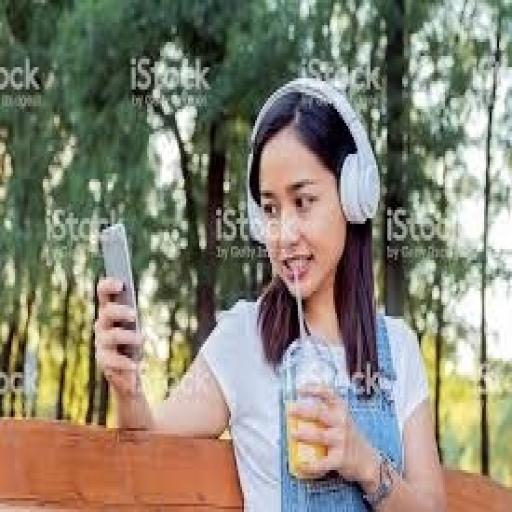listening_to_music: (93, 76, 449, 509)
